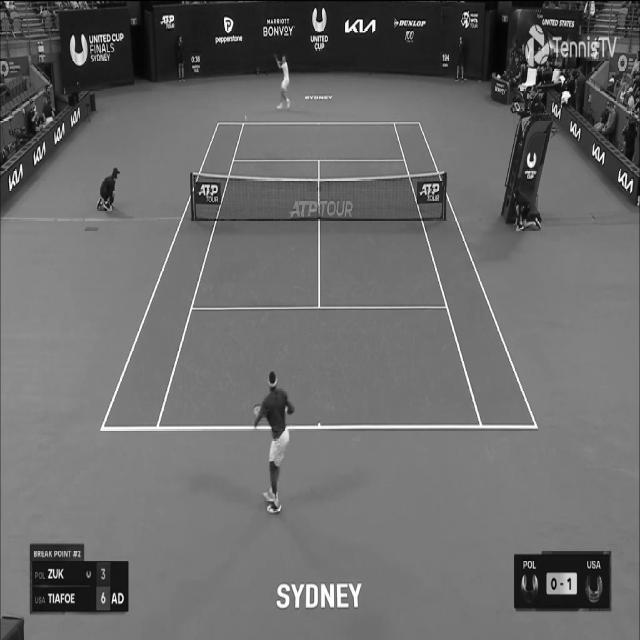tennis-court: (99, 122, 539, 430)
